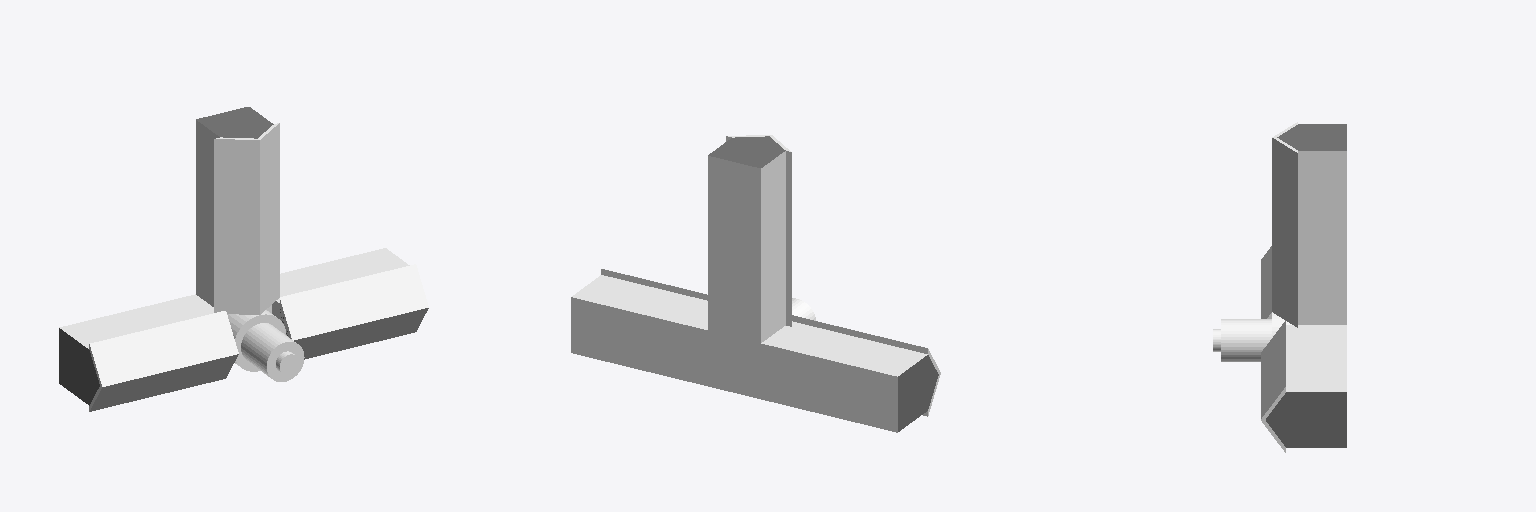
Rendered from hamTry2.obj.
The picture shows the model from 3 angles: view 1: azimuth 30°, elevation 25°; view 2: azimuth 150°, elevation 25°; view 3: azimuth 270°, elevation 25°; orthographic projection.
Visible parts, largest first — view 1: object_13, object_1, object_23, object_6, object_19, object_28, object_21, object_7, object_18, object_12; view 2: object_20, object_27, object_5, object_19, object_6, object_28, object_11, object_7, object_18, object_13, object_1, object_23; view 3: object_17, object_13, object_28, object_29, object_21, object_23, object_18, object_1, object_24.
Part boxes in pixels (left/top/right/bottom): object_13: left=214, top=123, right=279, bottom=314; object_1: left=89, top=311, right=238, bottom=411; object_23: left=280, top=264, right=428, bottom=359; object_6: left=59, top=294, right=213, bottom=348; object_19: left=196, top=120, right=219, bottom=306; object_28: left=276, top=248, right=409, bottom=302; object_21: left=241, top=323, right=304, bottom=381; object_7: left=59, top=328, right=88, bottom=404; object_18: left=196, top=107, right=272, bottom=136; object_12: left=228, top=310, right=286, bottom=371; object_20: left=708, top=156, right=760, bottom=342; object_27: left=571, top=297, right=707, bottom=385; object_5: left=761, top=344, right=897, bottom=432; object_19: left=761, top=151, right=785, bottom=342; object_6: left=761, top=321, right=927, bottom=376; object_28: left=572, top=275, right=707, bottom=329; object_11: left=708, top=331, right=760, bottom=398; object_7: left=898, top=355, right=927, bottom=431; object_18: left=708, top=138, right=784, bottom=167; object_13: left=726, top=135, right=791, bottom=326; object_1: left=792, top=315, right=940, bottom=416; object_23: left=601, top=269, right=707, bottom=300; object_17: left=1298, top=151, right=1346, bottom=324; object_13: left=1272, top=122, right=1297, bottom=327; object_28: left=1286, top=325, right=1346, bottom=391; object_29: left=1286, top=392, right=1346, bottom=447; object_21: left=1221, top=319, right=1271, bottom=361; object_23: left=1261, top=320, right=1285, bottom=452; object_18: left=1298, top=124, right=1346, bottom=150; object_1: left=1261, top=246, right=1271, bottom=318; object_24: left=1266, top=393, right=1285, bottom=446.
Size of the model in its own units: 6.29 by 4.36 by 2.24.